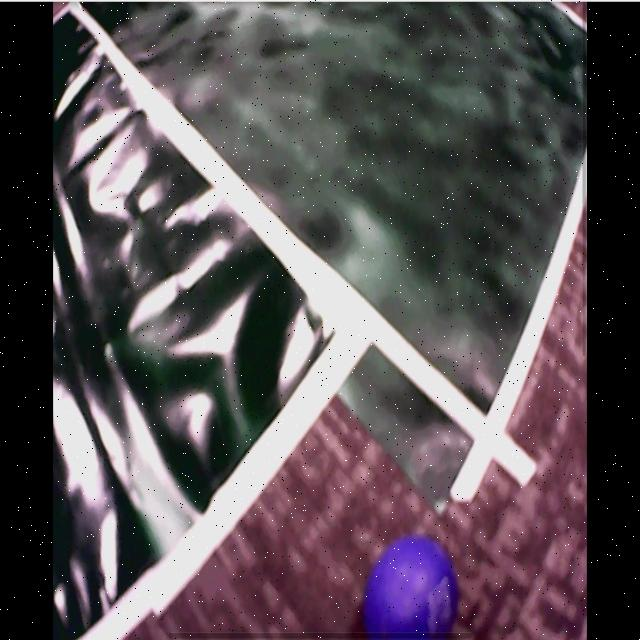ball: (367, 540, 454, 640)
